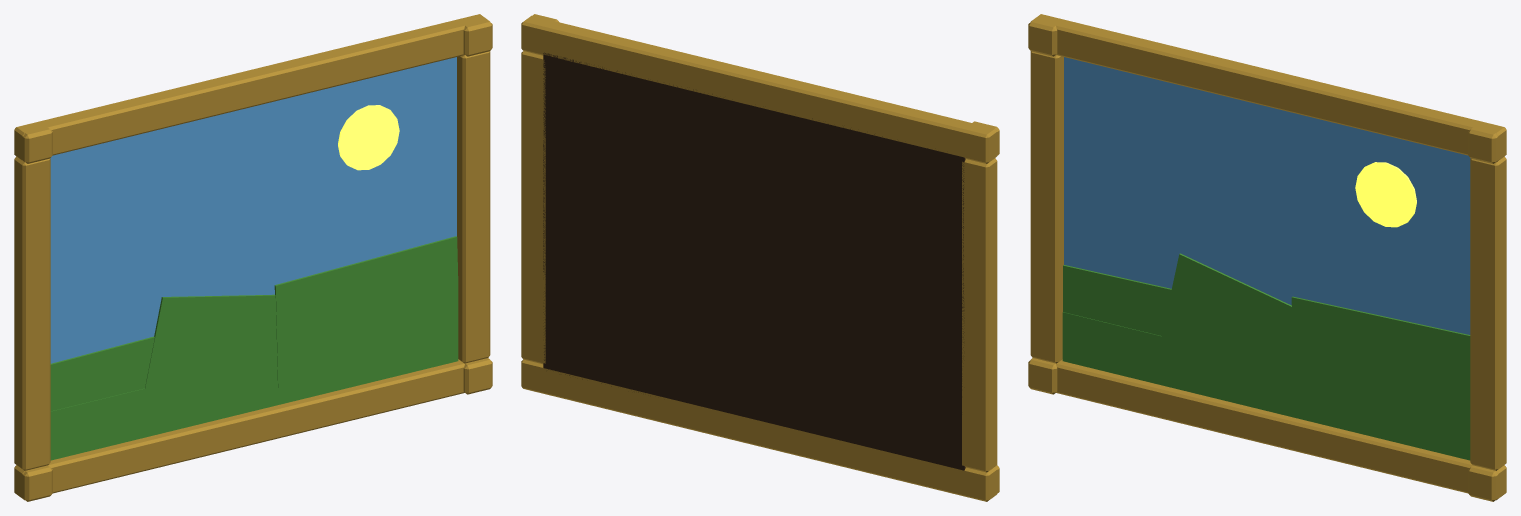
File: Prop_Gal_LivingFrame_Restored.glb
3 renders of one model, left to right at view 1: azimuth 30°, elevation 25°; view 2: azimuth 150°, elevation 25°; view 3: azimuth 330°, elevation 25°, orthographic.
Parts seen in each view (by area): view 1: Prop_Gal_LivingFrame_Restored_Canvas, Prop_Gal_LivingFrame_Restored; view 2: Prop_Gal_LivingFrame_Restored; view 3: Prop_Gal_LivingFrame_Restored_Canvas, Prop_Gal_LivingFrame_Restored.
Boxes of the visible parts, x1,y1,x2,y2 form: Prop_Gal_LivingFrame_Restored_Canvas: (50, 57, 458, 460); Prop_Gal_LivingFrame_Restored: (14, 14, 492, 501); Prop_Gal_LivingFrame_Restored: (521, 14, 999, 501); Prop_Gal_LivingFrame_Restored_Canvas: (1062, 57, 1470, 460); Prop_Gal_LivingFrame_Restored: (1028, 14, 1506, 501).
Size of what is drawn, in the model's own units: 2 by 1.5 by 0.1.
